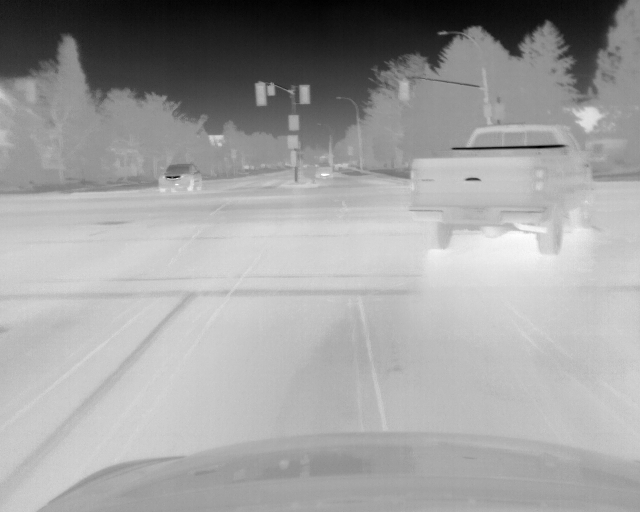car: (408, 120, 594, 257), (159, 163, 203, 194), (315, 162, 332, 180)
